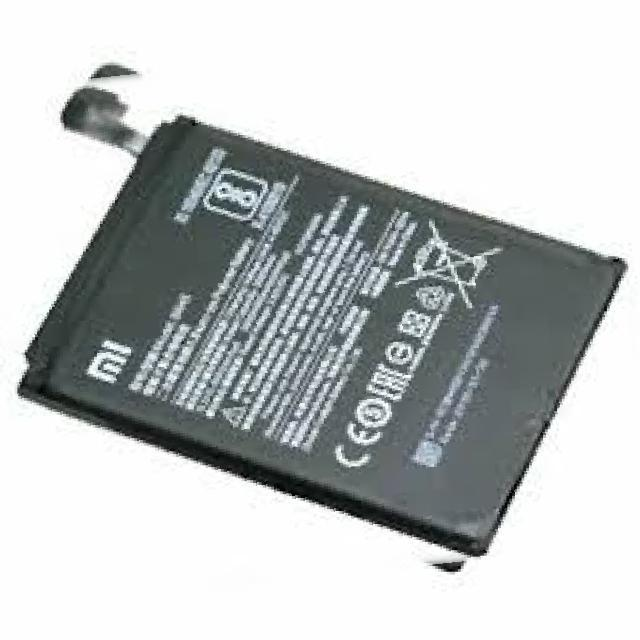Battery: (2, 80, 636, 559)
